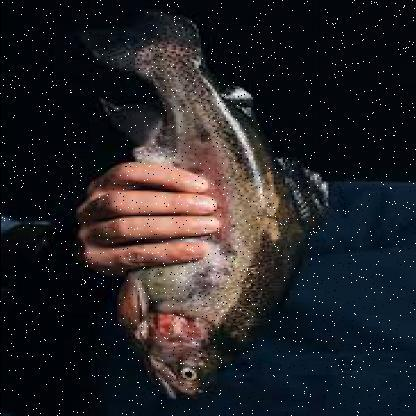fish: (68, 12, 334, 408)
